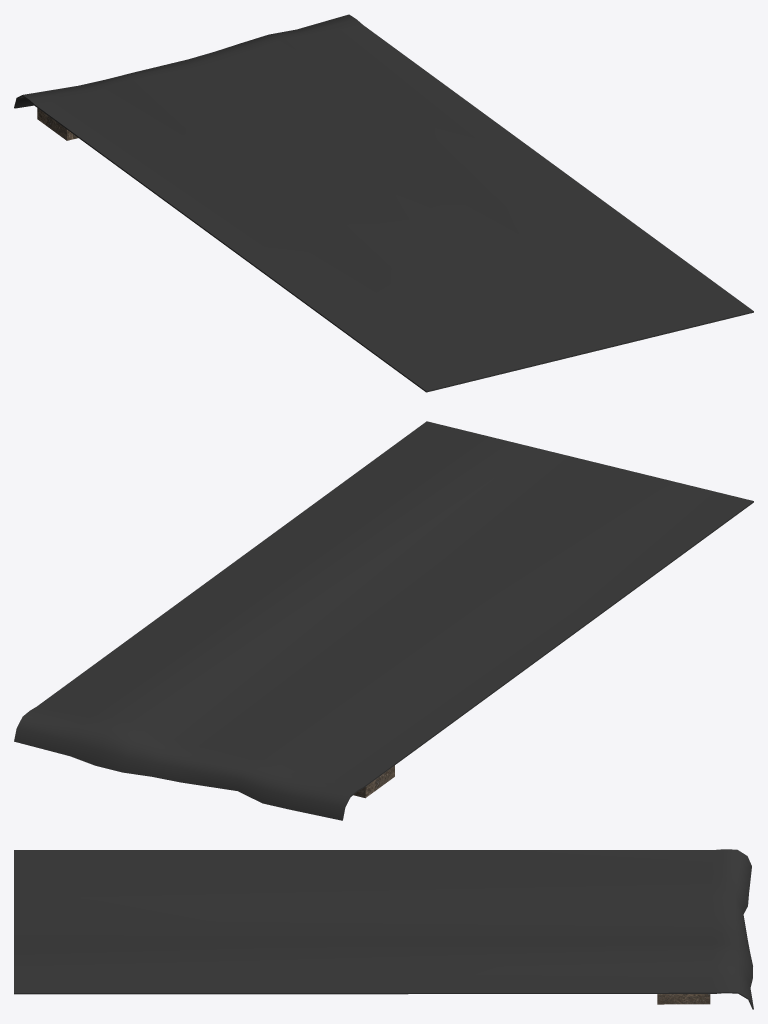
The model's file is SM_Roof01B.FBX.
3 views of the same model, one above another, from view 1: azimuth 30°, elevation 25°; view 2: azimuth 150°, elevation 25°; view 3: azimuth 270°, elevation 25° (orthographic). The views are drawn at different scales.
Parts seen in each view (by area): view 1: SM_Roof01B_LOD0; view 2: SM_Roof01B_LOD0; view 3: SM_Roof01B_LOD0.
Part boxes in pixels (<box>): SM_Roof01B_LOD0: <box>14,14,753,392</box>; SM_Roof01B_LOD0: <box>14,421,753,820</box>; SM_Roof01B_LOD0: <box>14,849,753,1009</box>.
Size of the model in its own units: 300 by 656 by 26.61.
